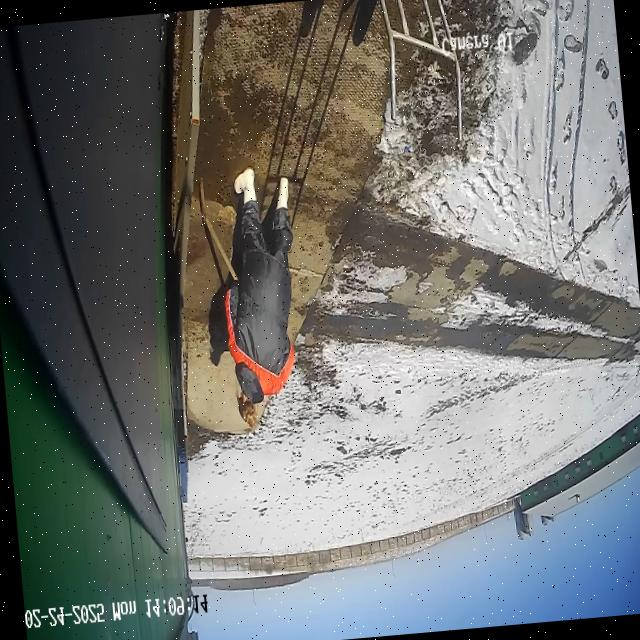Red uniform: (214, 191, 308, 406)
